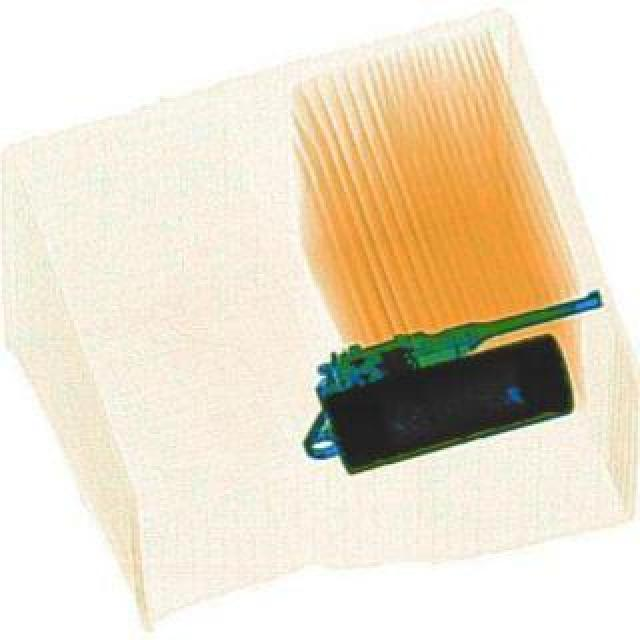gun: (286, 284, 632, 460)
